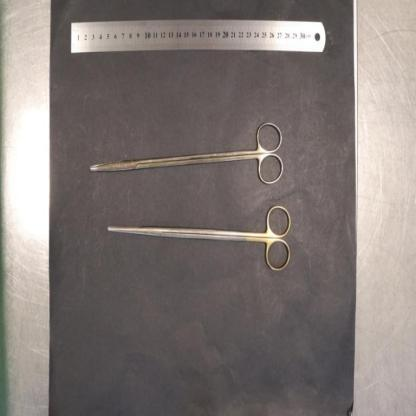7 Metzenbaum Scissors: (108, 202, 292, 274)
9 Metzenbaum Scissors: (90, 119, 285, 186)
